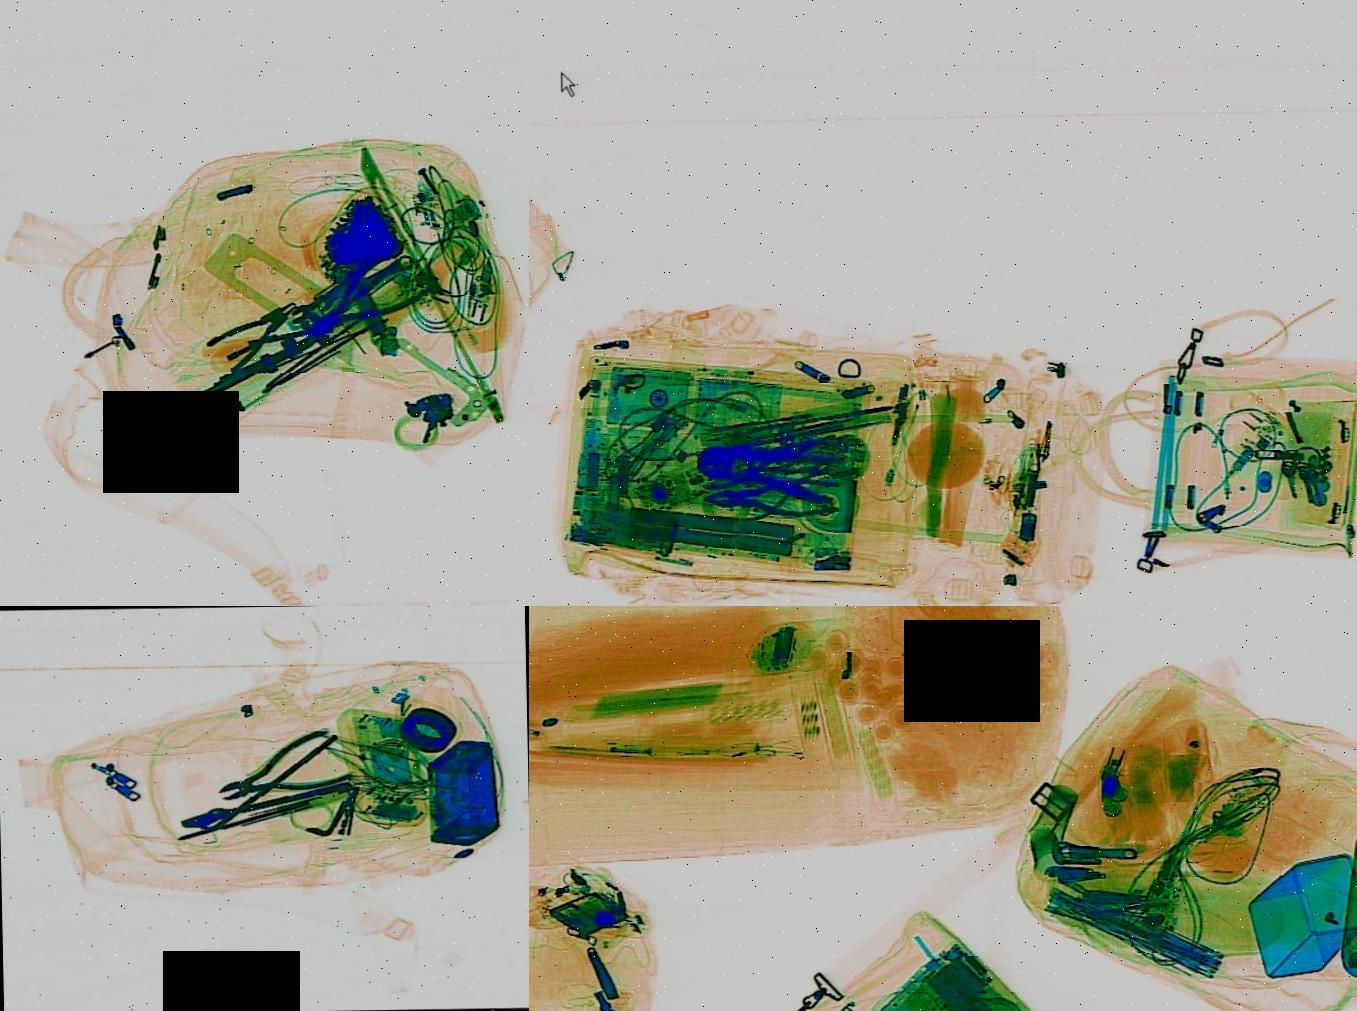Pliers: (292, 233, 432, 360), (200, 724, 360, 818), (682, 429, 852, 507), (688, 418, 843, 490), (201, 284, 305, 376), (698, 474, 840, 515)
Wrench: (308, 248, 414, 312), (285, 266, 358, 325)
